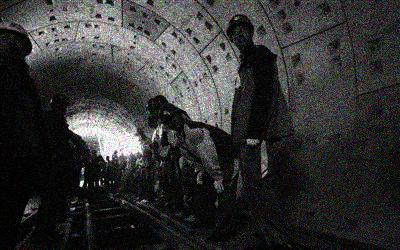helmet: (1, 22, 36, 64), (225, 13, 256, 46), (158, 103, 186, 132), (49, 93, 72, 117), (151, 94, 170, 113), (133, 126, 145, 142), (144, 97, 154, 112)
